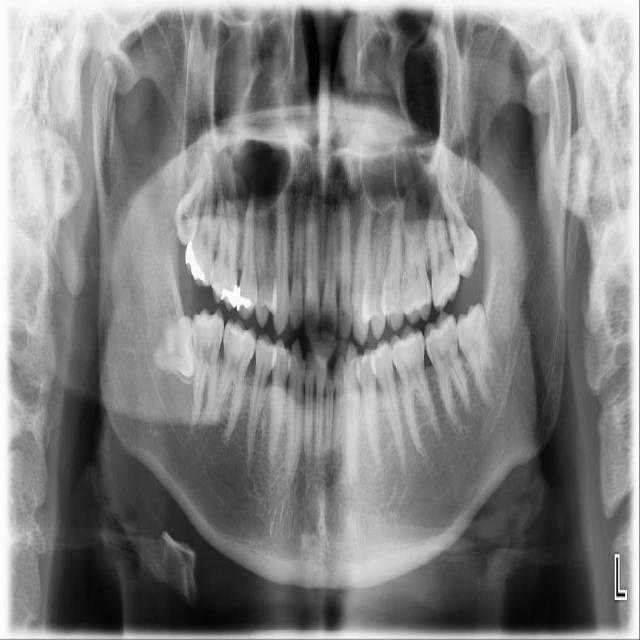3M ESPE Implant: (169, 143, 212, 247)
52: (219, 317, 259, 369), (186, 235, 215, 287), (210, 259, 238, 312), (192, 308, 224, 353), (236, 274, 258, 319), (178, 204, 193, 236)
73: (616, 560, 618, 566)
BioHorizons Implant: (422, 170, 463, 313)
BioLife Implant: (430, 143, 485, 279)
Biomet 3i Implant: (447, 300, 518, 411)
Blue Sky Bio Implant: (419, 307, 474, 433)
Caries: (181, 161, 229, 288)
Implant: (191, 308, 224, 426)
Keystone Dental Implant: (150, 314, 199, 380)
